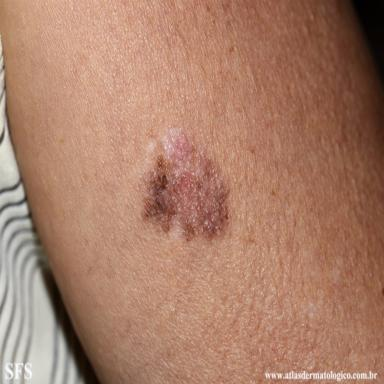Melanoma: (143, 129, 228, 240)
